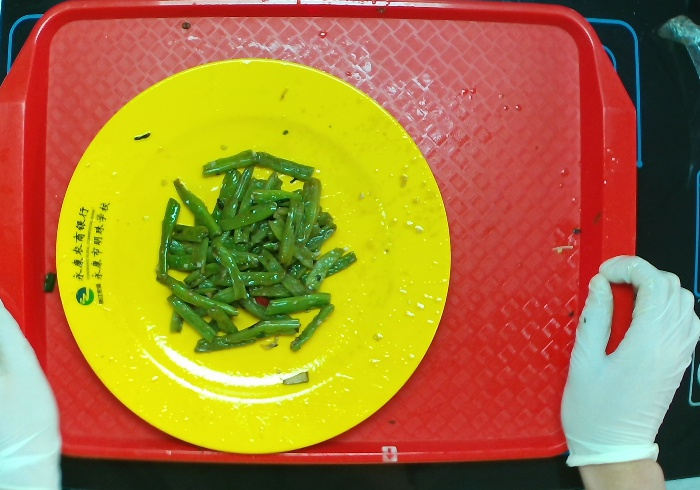YKMZ-Huang_Se_Mian_Pan: (53, 58, 454, 457)
